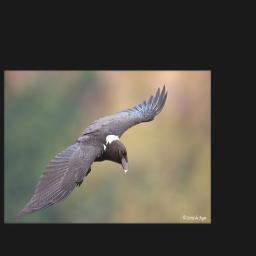Crow: (15, 84, 168, 219)
